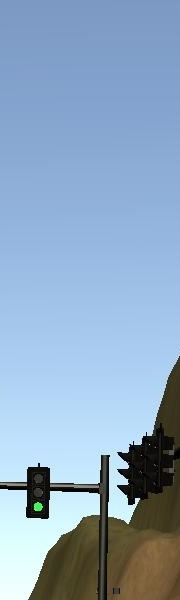Green: (28, 465, 51, 520)
